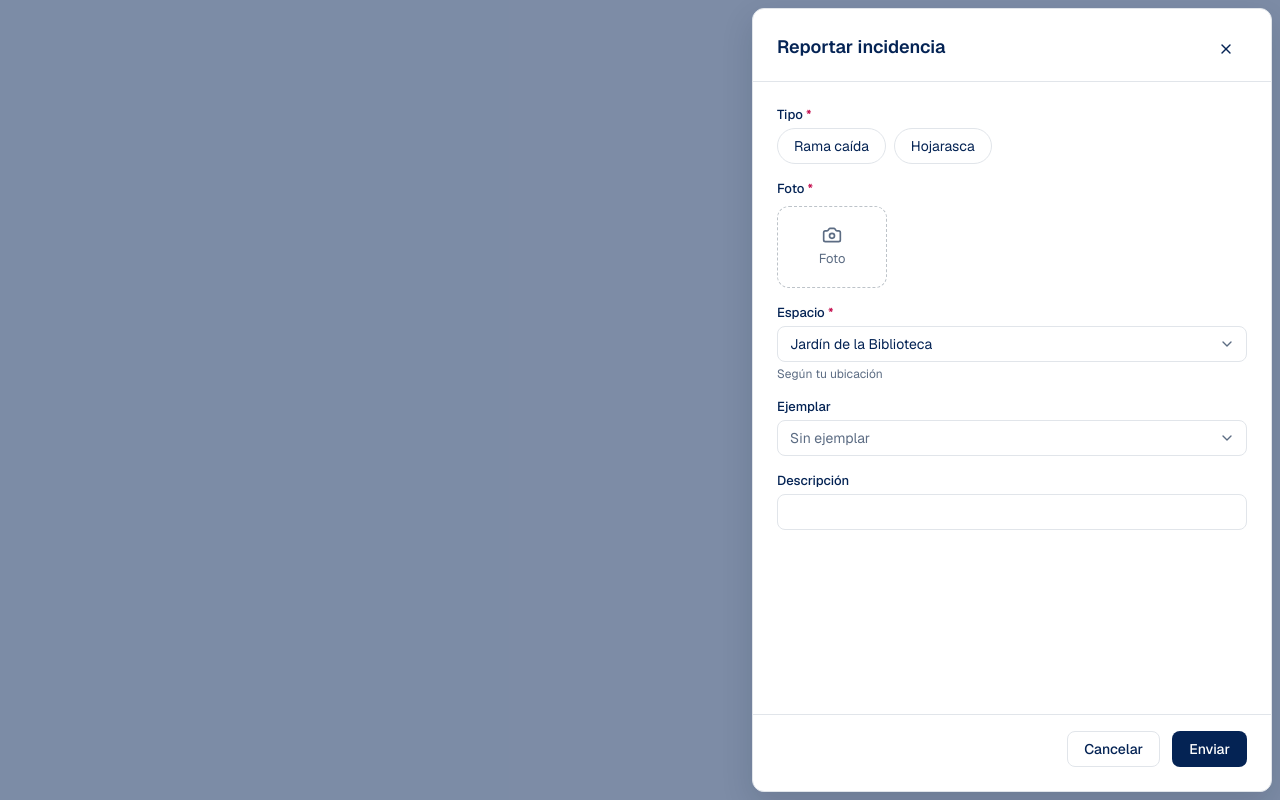
Test: DialogoReportarIncidencia › exige tipo y foto y entra con el espacio de la ubicación (Figma 391-8394)
Later steps or results of the test are not shown.
Expected: the radio button labelled "Rama caída" is shown, [777,128,886,164]
Expected: the text "Según tu ubicación" is shown, [777,366,883,382]
Click the button "Enviar".
click(1210, 749)  # box [1172,731,1247,767]
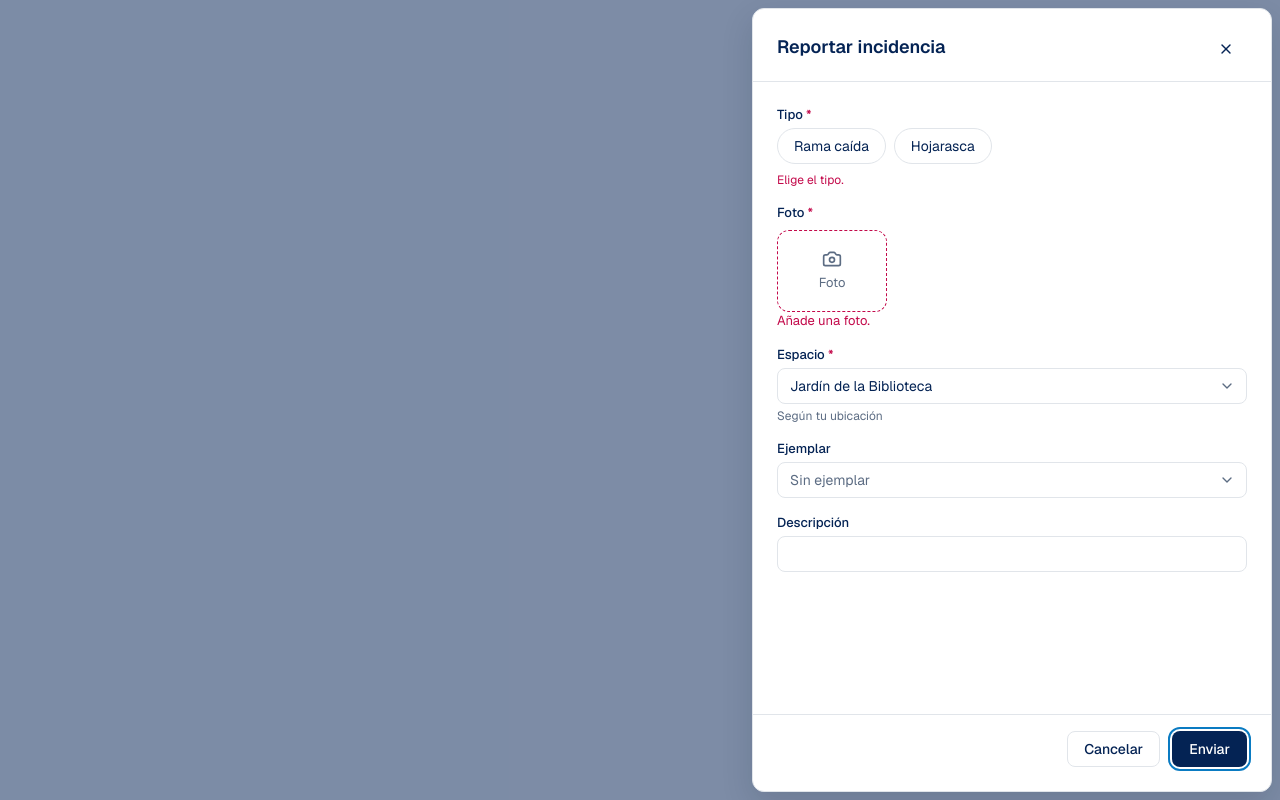
Result: the text "Elige el tipo." is shown at [777,172,844,188]
Result: the text "Añade una foto." is shown at [777,312,870,329]
